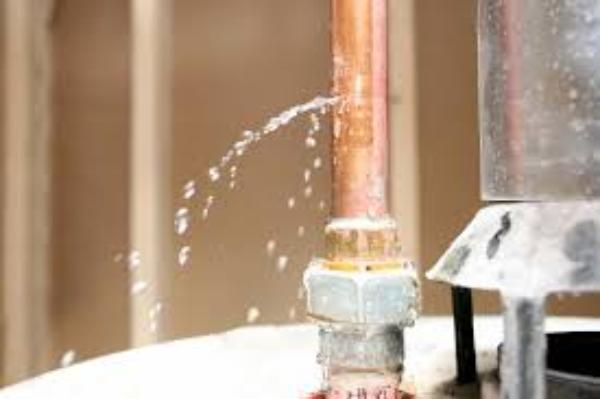pipe burst: (226, 92, 352, 162)
water drop: (147, 300, 164, 332), (174, 206, 189, 234), (244, 306, 264, 324), (181, 178, 196, 199), (129, 280, 147, 297), (276, 256, 291, 276), (128, 251, 143, 271), (60, 349, 76, 367), (202, 197, 214, 221), (178, 246, 192, 265), (208, 168, 222, 182)
